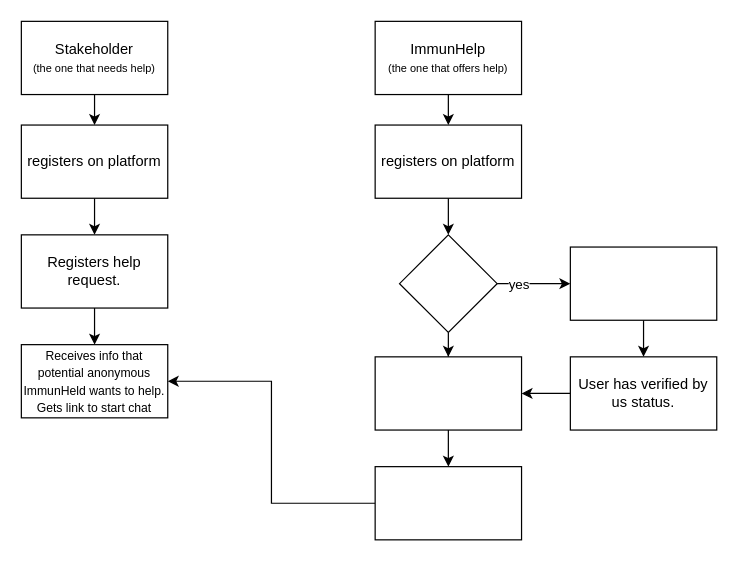
Image size: 738x561. Some labels were removed from this diagram. The shapes that lost their labels are listed below. From the top down, each one's centre as x and y in pixels, then its label:
(x=447, y=283): wants to verify status with us?
(x=643, y=283): Verification Process
(x=448, y=393): Looking for Help Requests
(x=448, y=502): Found help request and declares interest.
